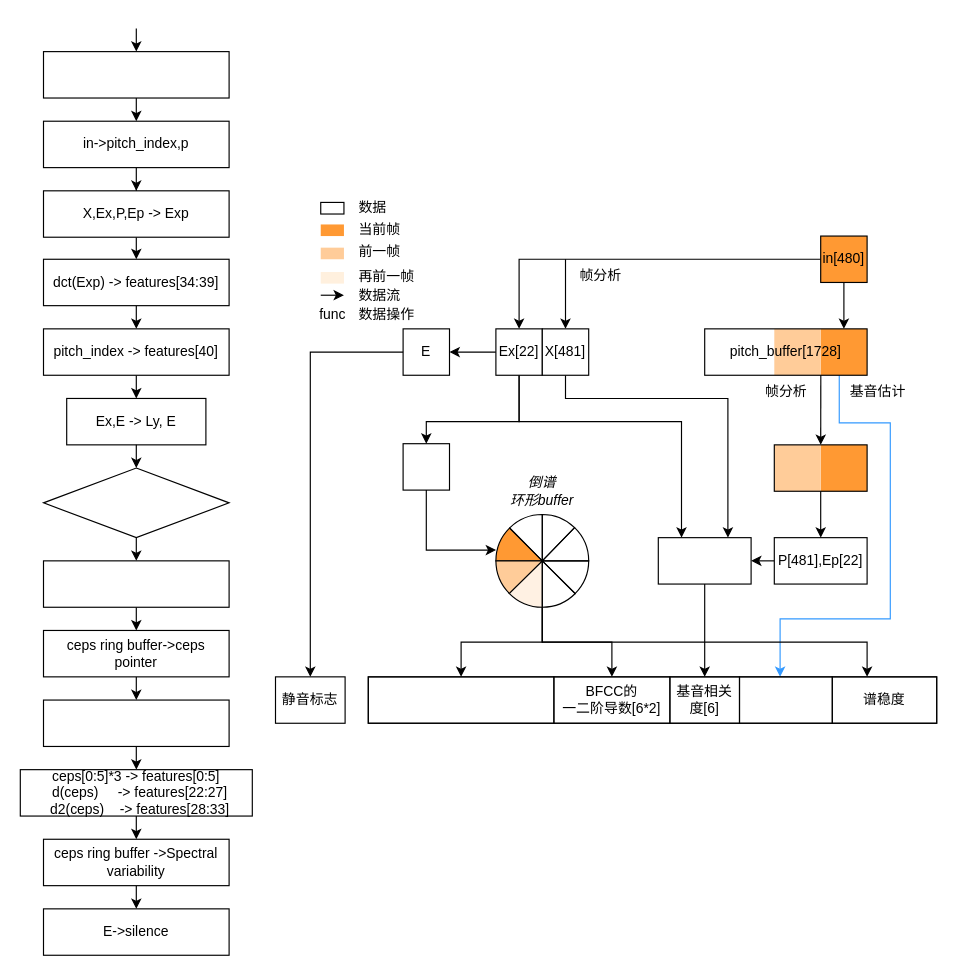
Image size: 957x976. Some labels were removed from this diagram. Each missing label, with the box of its shape:
BFCC[22] (倒谱): (367, 676, 554, 723)
Exp[22]: (657, 536, 751, 584)
features[0:21] -> ceps ring buffer: (42, 699, 229, 746)
in -> X,Ex: (42, 50, 229, 98)
Ly: (402, 443, 449, 490)
Ly -> bfcc -> features[0:21]: (42, 560, 229, 607)
p[960]: (773, 444, 867, 491)
when not training and energy low: (42, 467, 229, 538)
基音周期: (738, 676, 832, 723)
